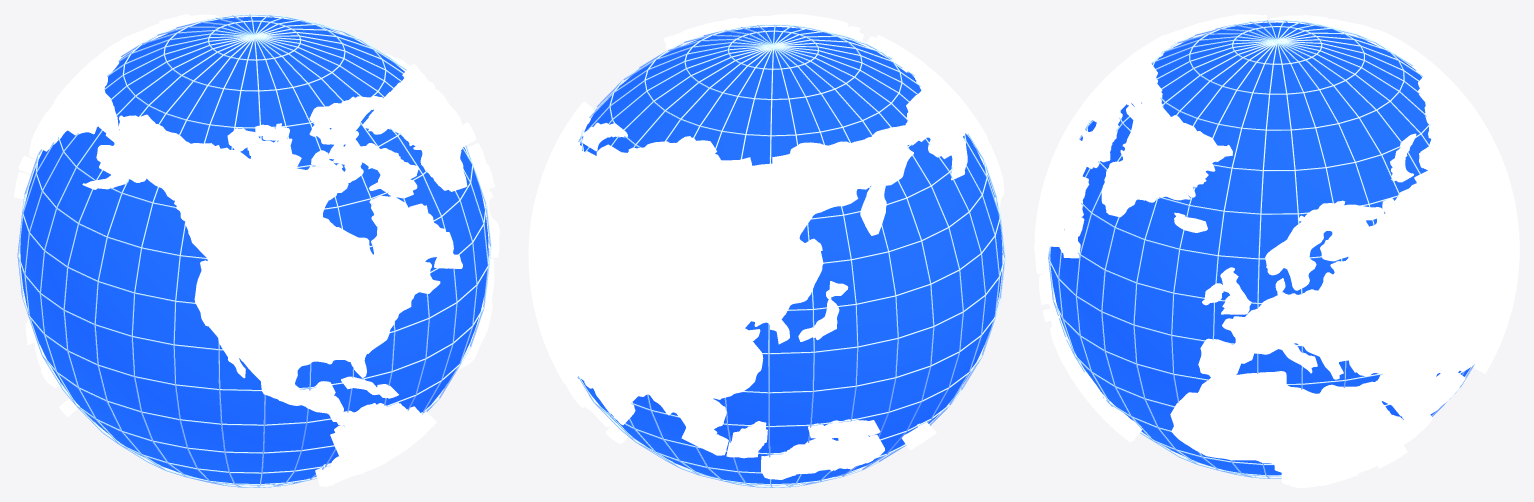
3 views of the same model, side by side, from view 1: azimuth 30°, elevation 25°; view 2: azimuth 150°, elevation 25°; view 3: azimuth 270°, elevation 25° (orthographic). The views are drawn at different scales.
Parts seen in each view (by area): view 1: Icosphere, map, Sphere_wire; view 2: map, Icosphere, Sphere_wire; view 3: map, Icosphere, Sphere_wire.
Part boxes in pixels (left/top/right/bottom): Icosphere: left=20, top=17, right=488, bottom=483; map: left=14, top=14, right=499, bottom=486; Sphere_wire: left=17, top=14, right=491, bottom=487; map: left=528, top=14, right=1004, bottom=479; Icosphere: left=580, top=27, right=1002, bottom=483; Sphere_wire: left=577, top=24, right=1005, bottom=487; map: left=1034, top=14, right=1519, bottom=487; Icosphere: left=1050, top=22, right=1470, bottom=475; Sphere_wire: left=1048, top=20, right=1474, bottom=478.
Size of the model in its own units: 2.08 by 2.03 by 2.14.
